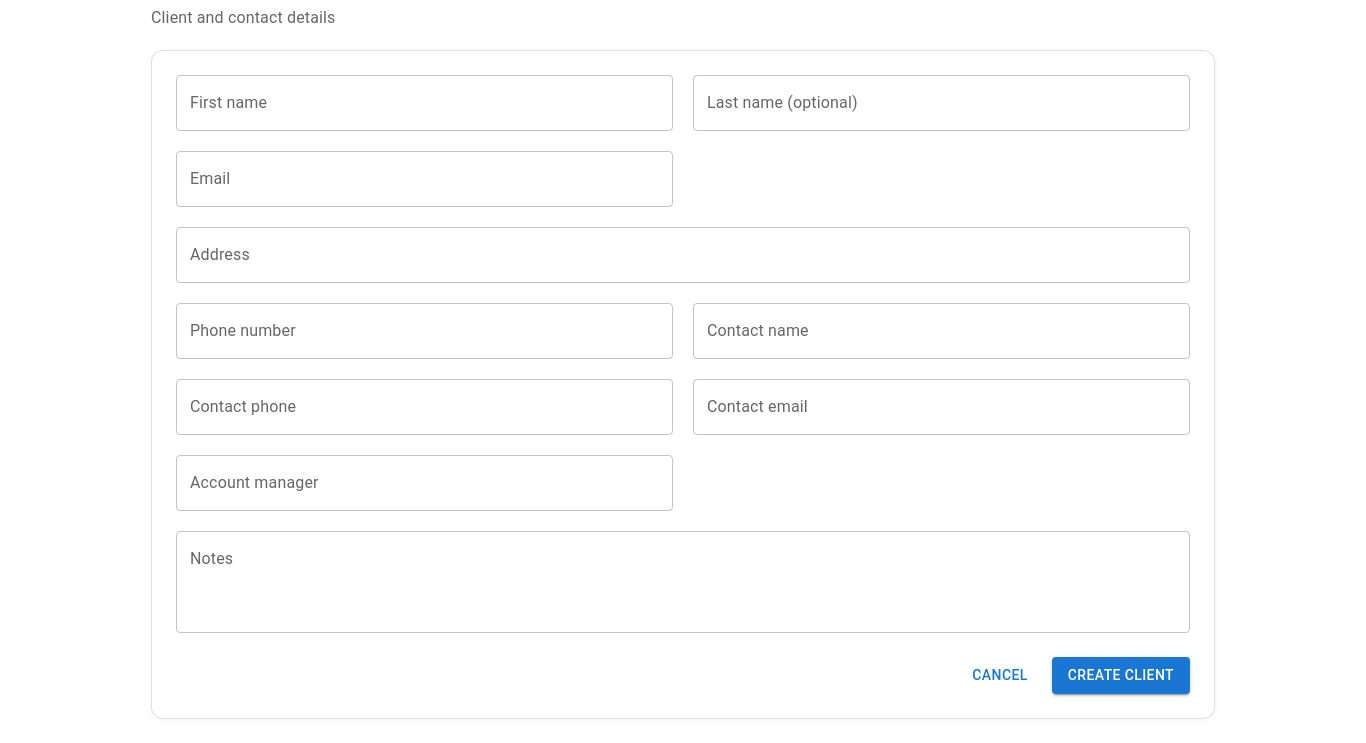
React Hook Form submission boundaries › shows client field errors and submits a validated DTO
Later steps or results of the test are not shown.
(page scrolled)
Click the button "Create client" at (1121, 675), box [1052, 657, 1190, 694]
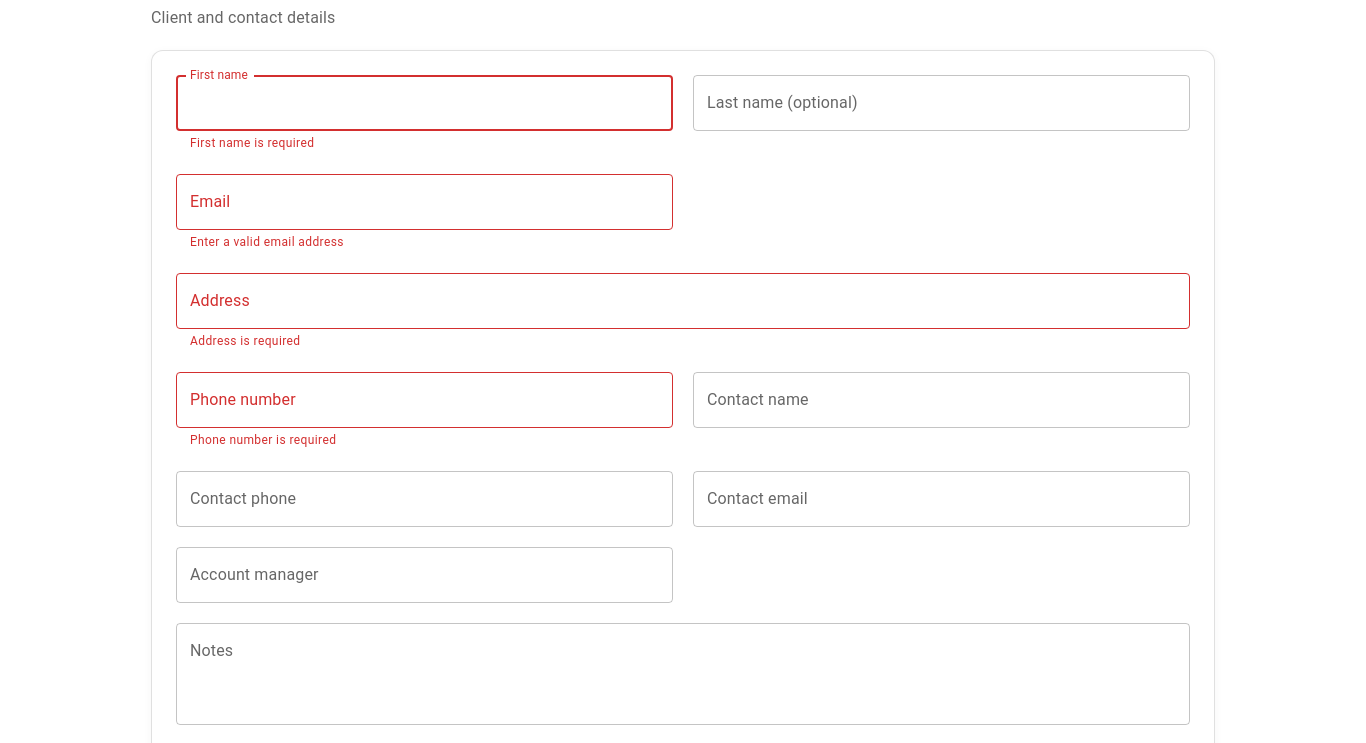
Expected: the text "First name is required" is shown, [190, 136, 314, 150]
